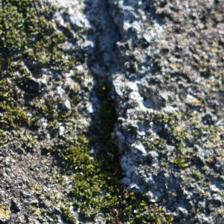Crack: (41, 1, 93, 202)
